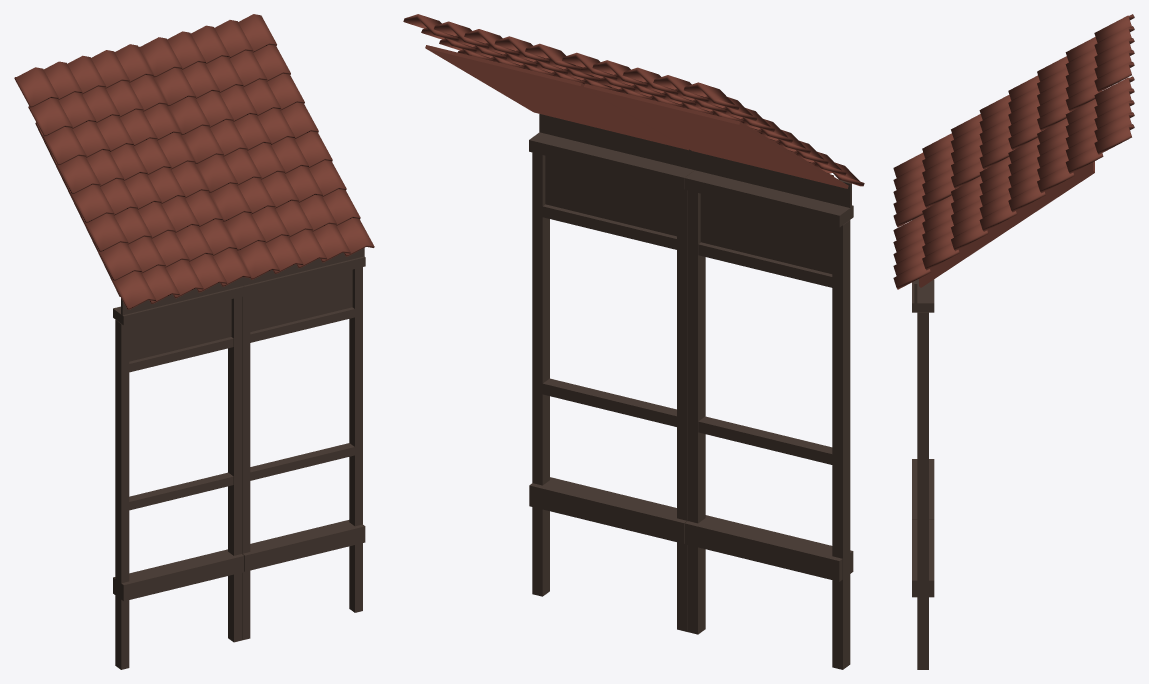
File: outside-panel-fence-roof-L2.fbx
3 renders of one model, left to right at view 1: azimuth 30°, elevation 25°; view 2: azimuth 150°, elevation 25°; view 3: azimuth 270°, elevation 25°, orthographic. The views are drawn at different scales.
Visible parts, largest first — view 1: Cube.035, Cube.023; view 2: Cube.023, Cube.035; view 3: Cube.035, Cube.023.
Boxes of the visible parts, left/top/right/bottom form: Cube.035: left=14, top=14, right=374, bottom=309; Cube.023: left=113, top=248, right=365, bottom=669; Cube.023: left=529, top=114, right=853, bottom=669; Cube.035: left=403, top=14, right=864, bottom=188; Cube.035: left=893, top=14, right=1134, bottom=289; Cube.023: left=912, top=218, right=934, bottom=669.
Bounding box in the file's own units: 205 × 416 × 168.
